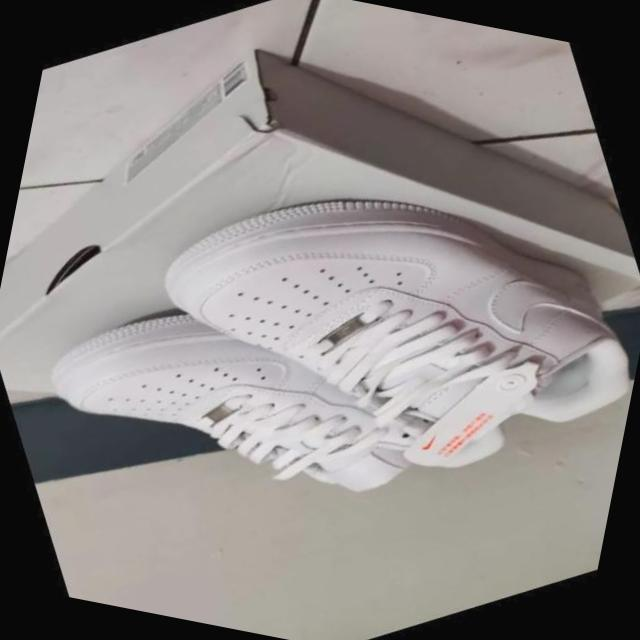nike_original_airforce: (103, 40, 640, 597), (0, 174, 504, 633)
